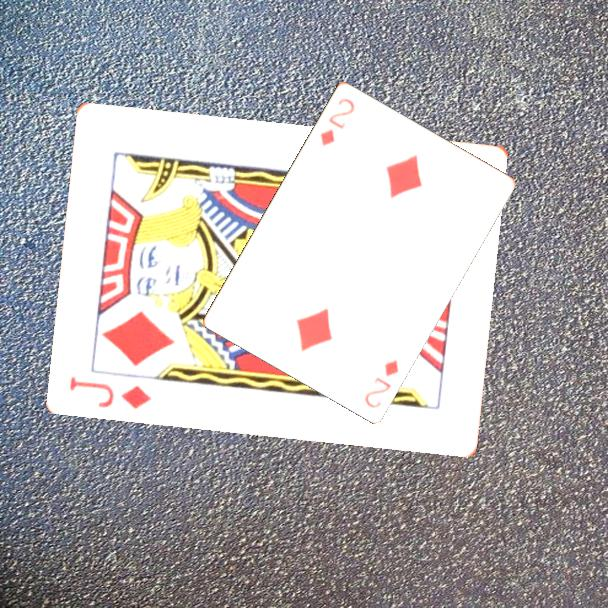d02: (317, 94, 357, 149), (361, 356, 401, 411)
d11: (66, 372, 155, 411)
